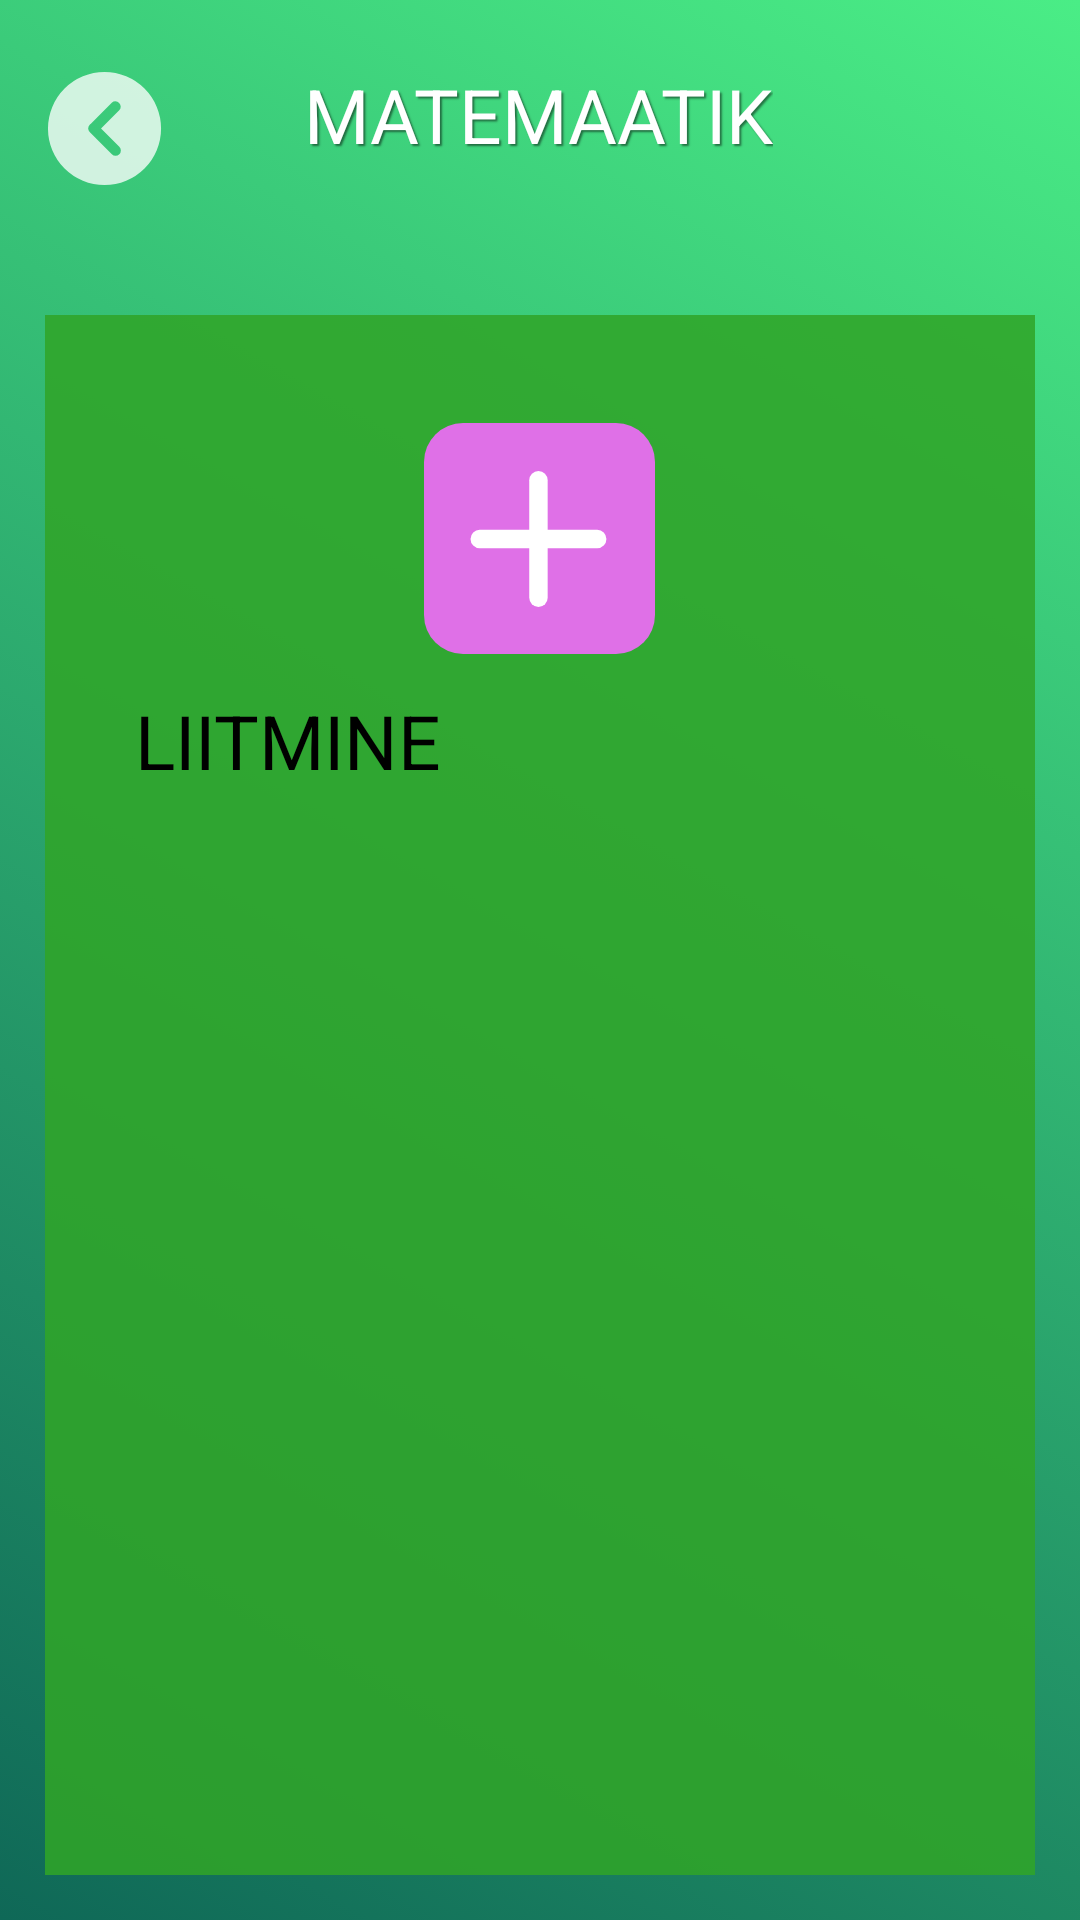

Screen size 1080px×1920px. Icon name, then its center in pixels as point (x, y):
back arrow: point (104, 128)
